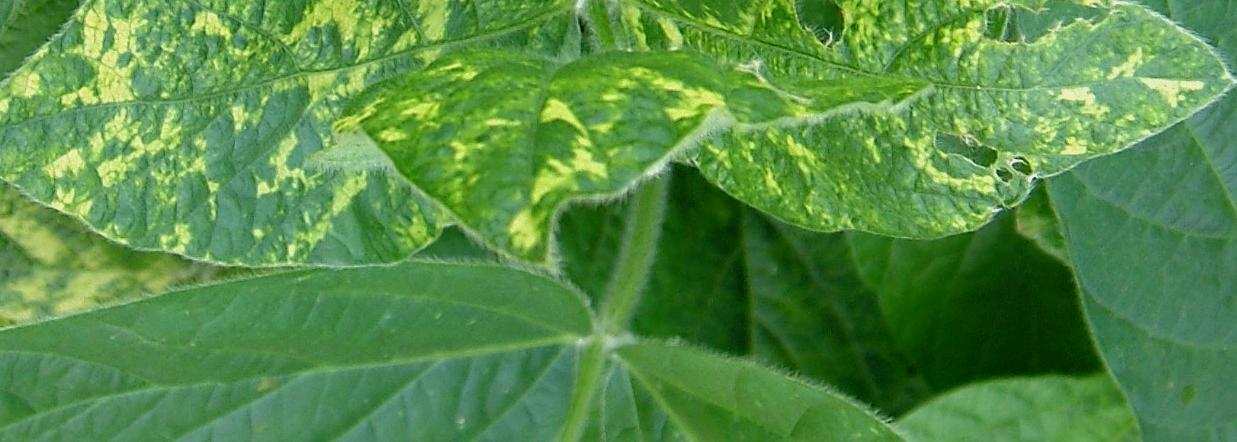Tomato leaf: (0, 255, 594, 442)
Tomato leaf mosaic virus: (612, 0, 1237, 265), (0, 0, 570, 245)
